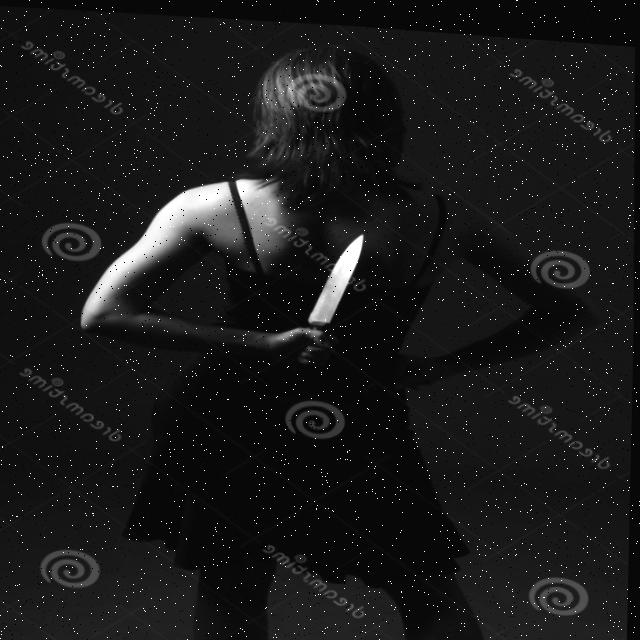knife: (307, 227, 372, 328)
